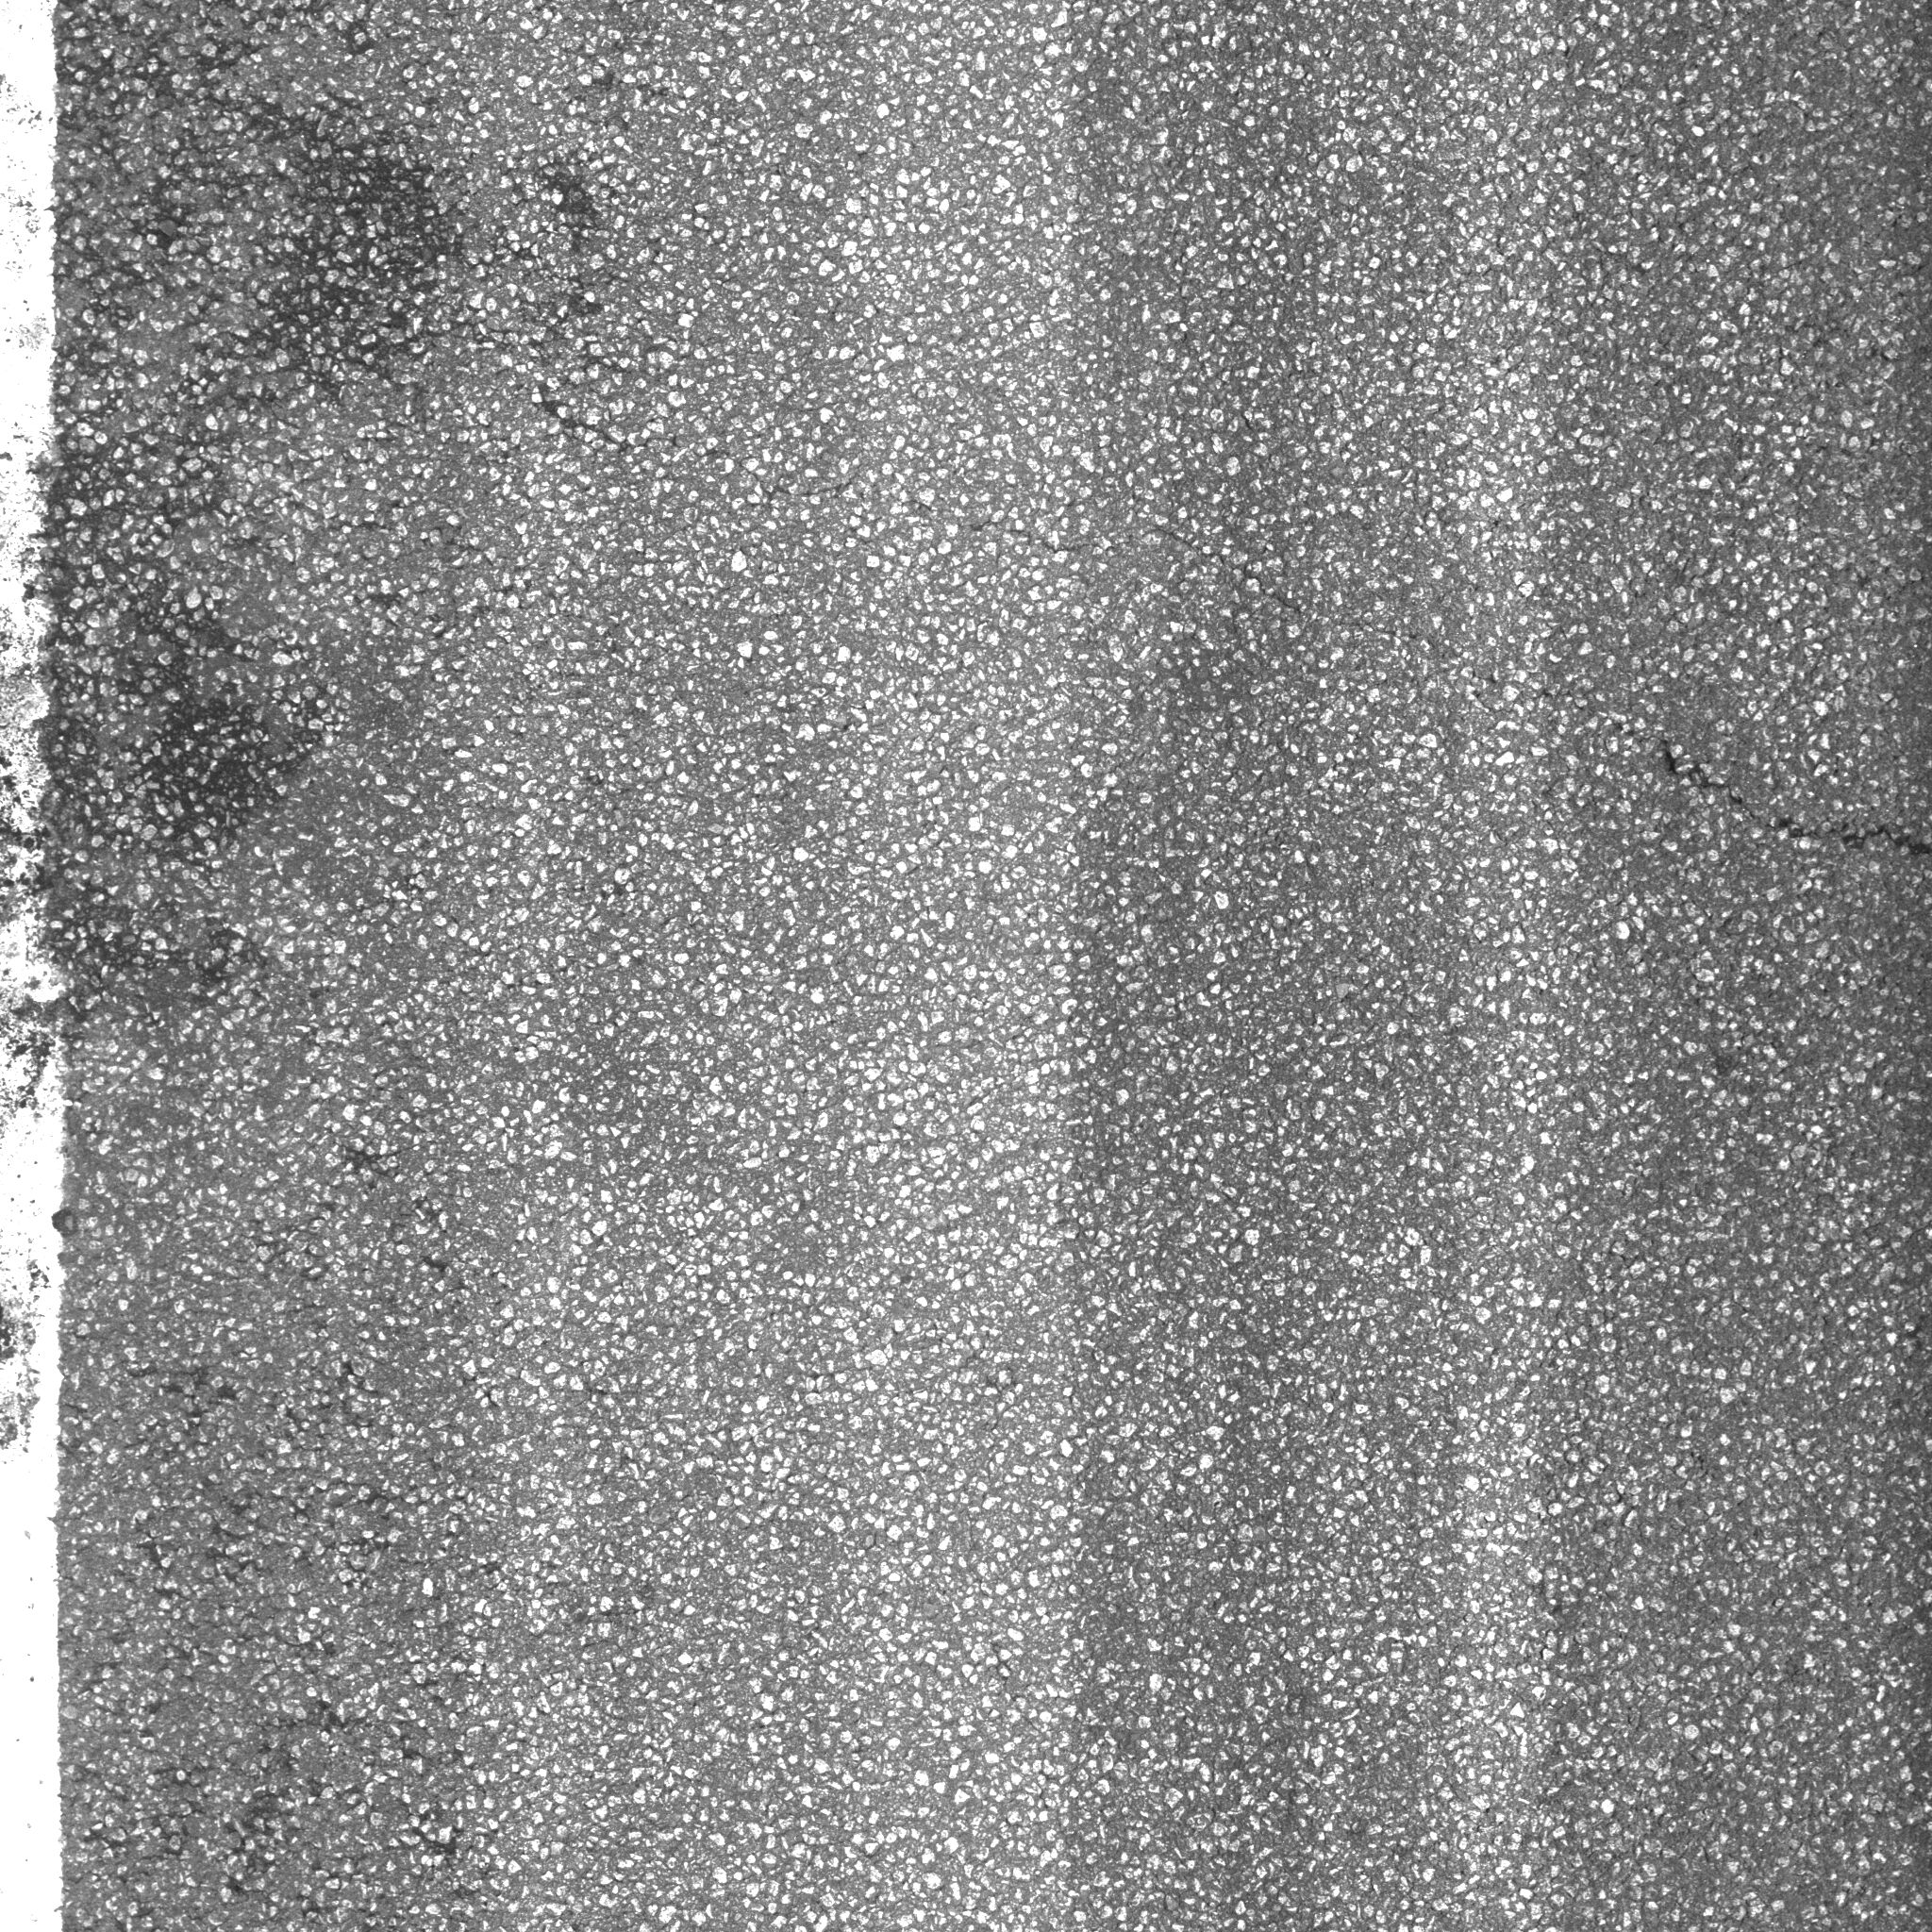transeverse: (506, 343, 1930, 899)
